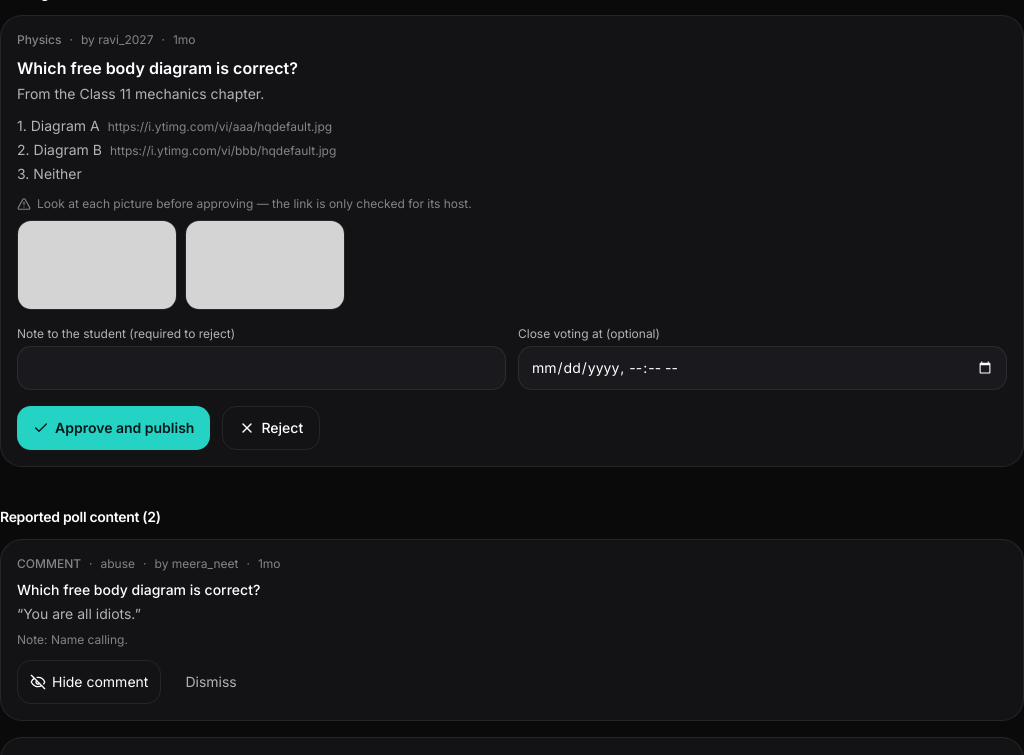
Test case: the review queue › surfaces the server's refusal to reject silently, in plain words
The image size is (1024, 755).
(page scrolled)
Click the button "Reject": x=271, y=428 [222,406,320,450]
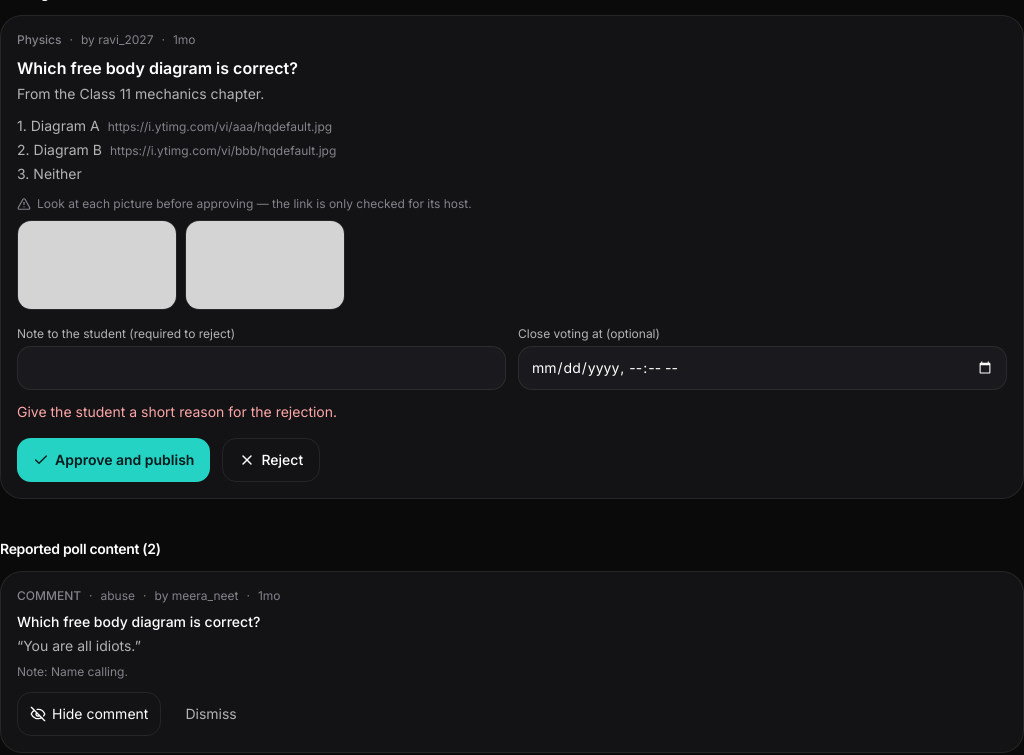
Expected: the message shows "short reason", [17,403,337,420]
